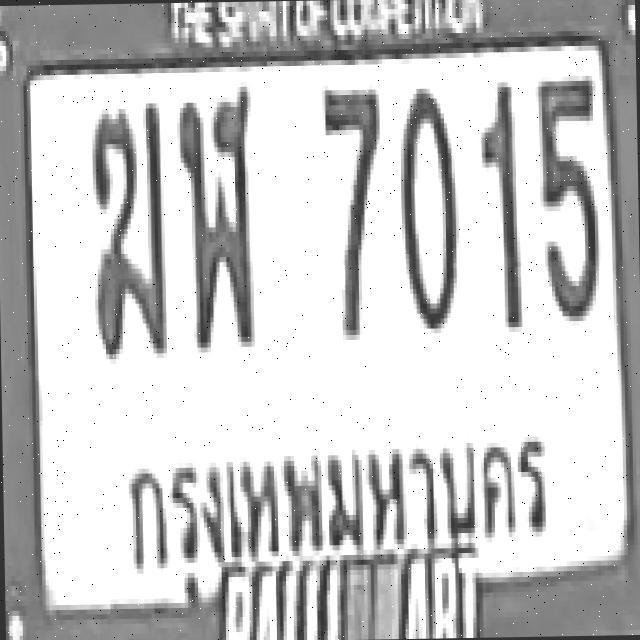0: (396, 82, 458, 328)
1: (476, 81, 522, 332)
15KhorRaKhang: (86, 98, 165, 354)
5: (534, 75, 600, 321)
51LorChula: (175, 81, 254, 342)
7: (318, 84, 382, 340)
Bangkok: (112, 412, 558, 570)
